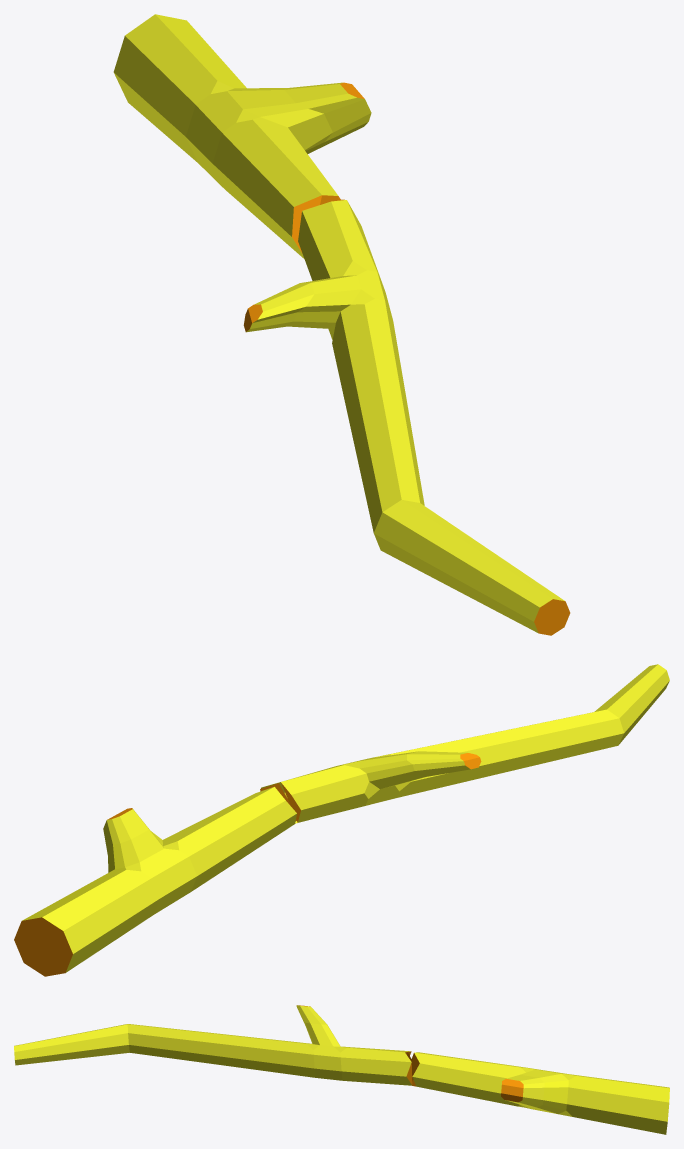
File: Stick_34.fbx
3 renders of one model, top to bottom at view 1: azimuth 30°, elevation 25°; view 2: azimuth 150°, elevation 25°; view 3: azimuth 270°, elevation 25°, orthographic. The views are drawn at different scales.
Parts seen in each view (by area): view 1: Circle.330, Circle.326; view 2: Circle.326, Circle.330; view 3: Circle.330, Circle.326.
Boxes of the visible parts, x1,y1,x2,y2 form: Circle.330: [243, 200, 570, 635]; Circle.326: [113, 14, 371, 258]; Circle.326: [14, 783, 296, 976]; Circle.330: [260, 664, 669, 823]; Circle.330: [14, 1005, 412, 1085]; Circle.326: [407, 1052, 669, 1134].
Bounding box in the file's own units: 14.72 × 4.81 × 44.13.
